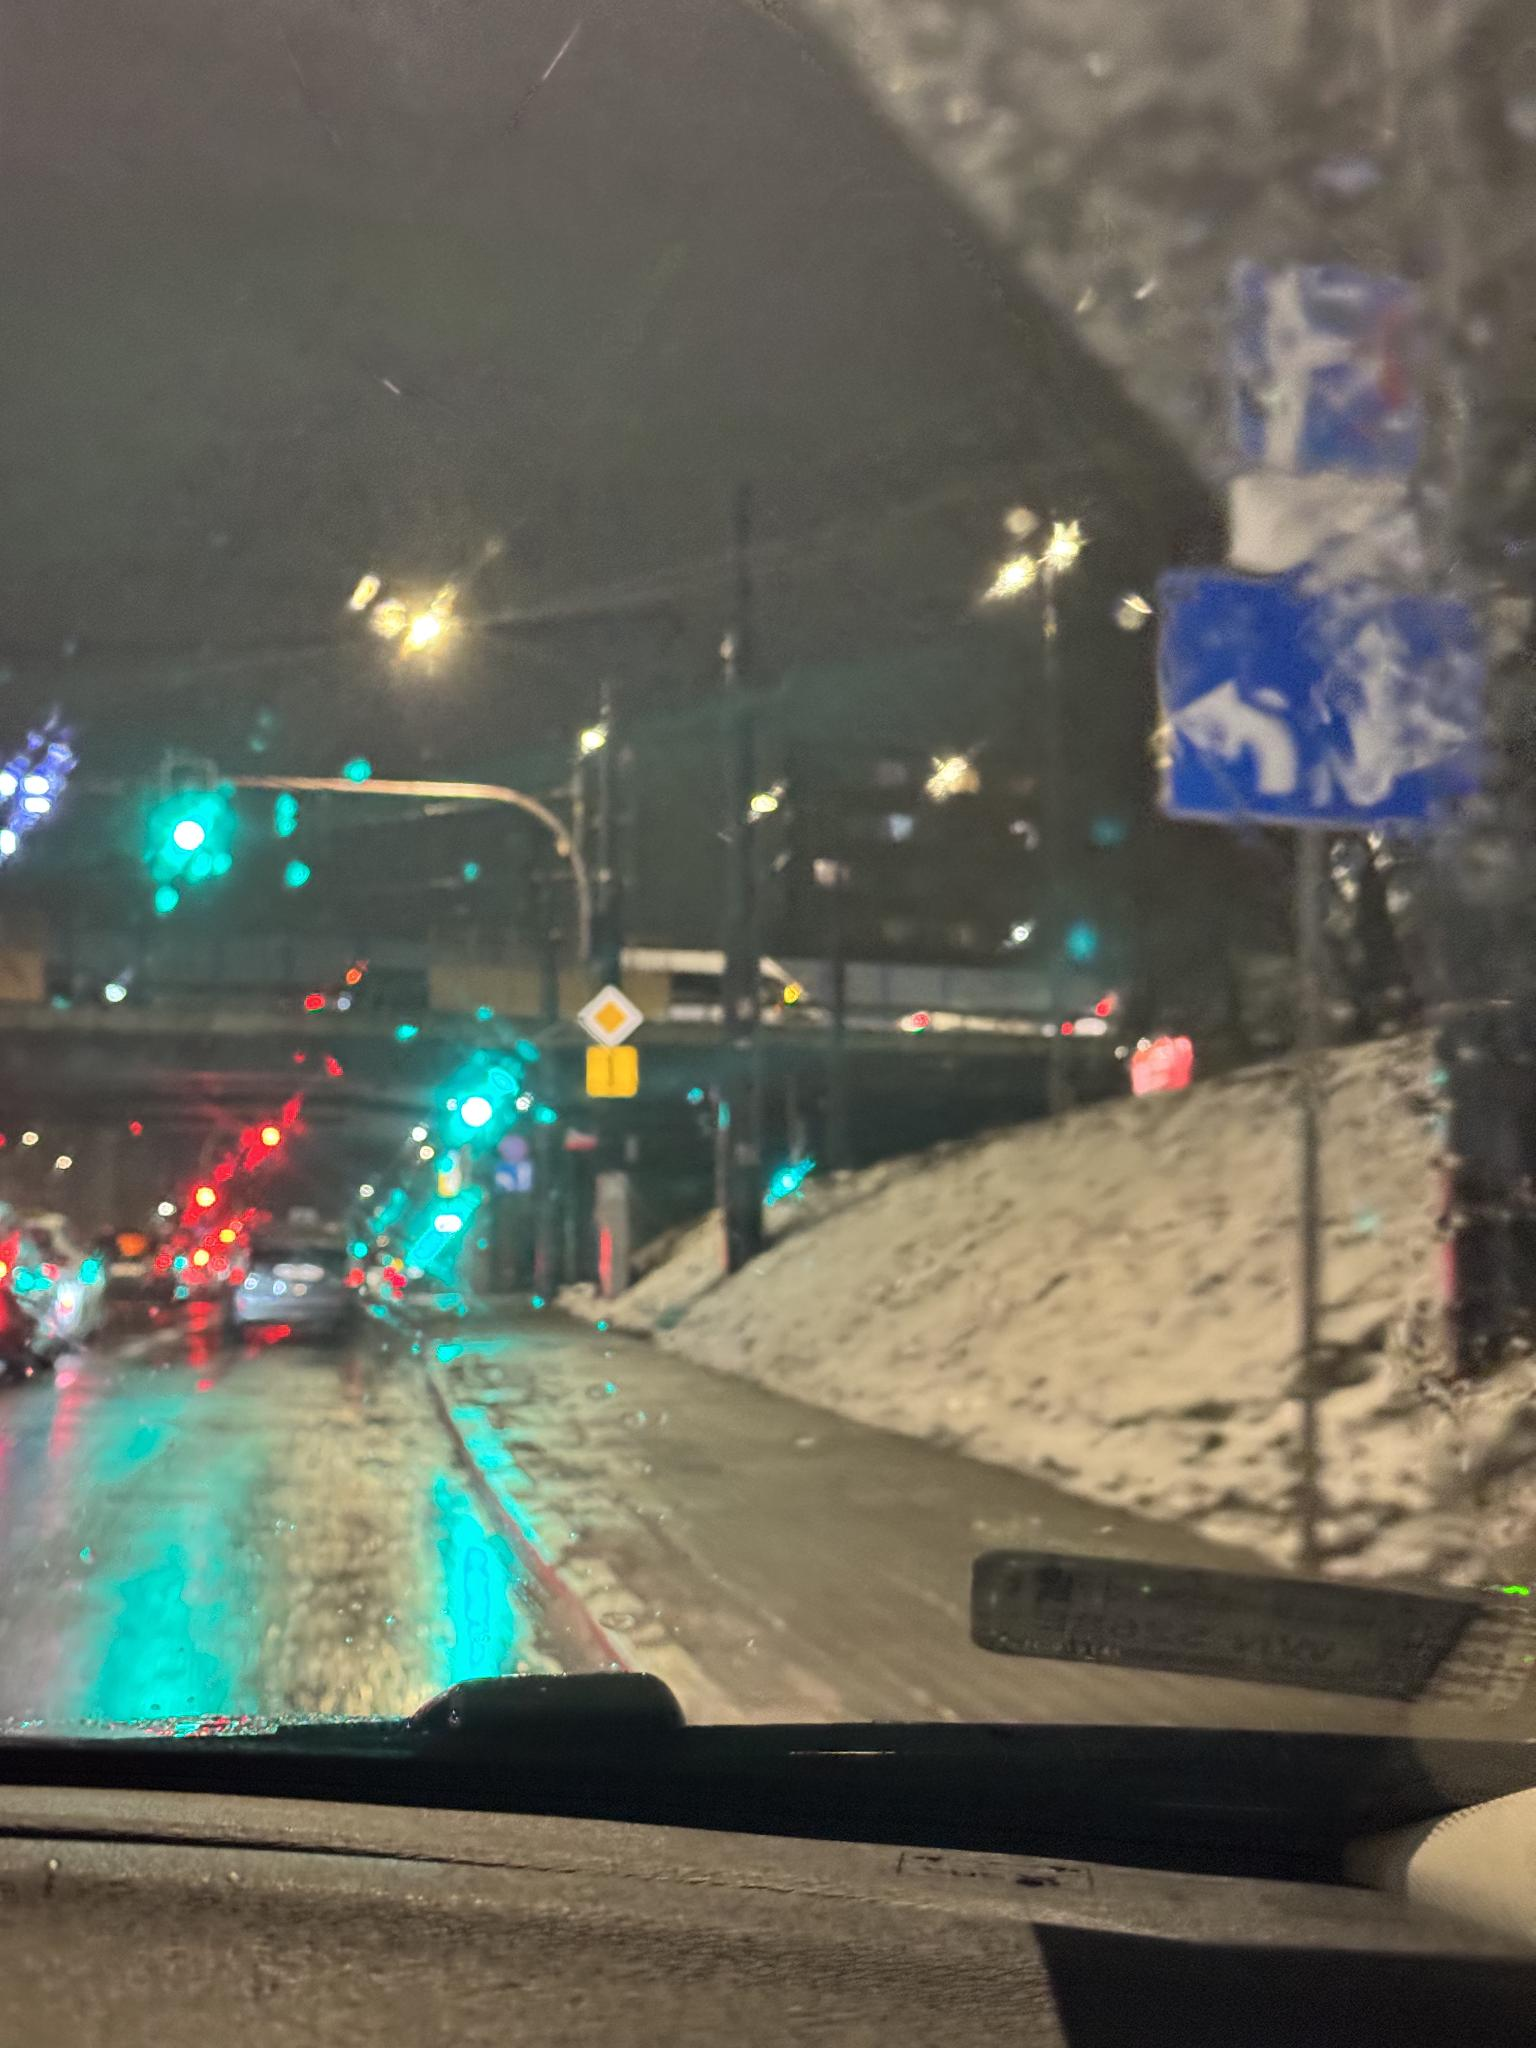information: (1230, 249, 1450, 469), (578, 982, 646, 1048)
other: (1164, 584, 1500, 828), (1238, 474, 1422, 574), (584, 1046, 640, 1100)
